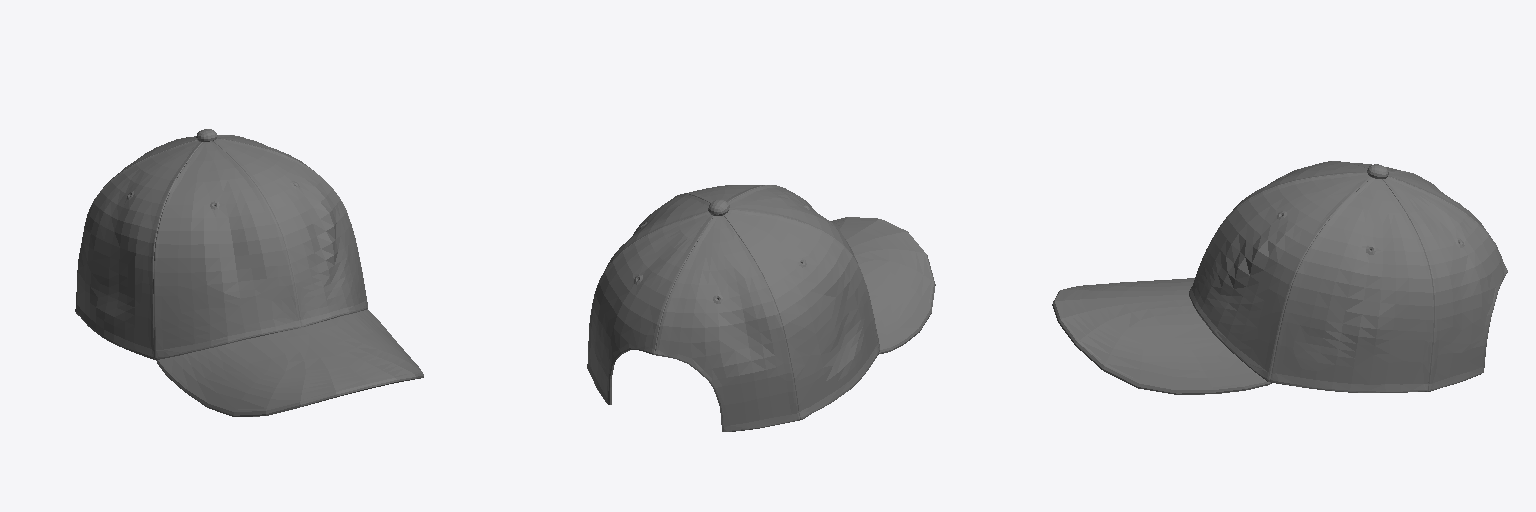
3 views of the same model, side by side, from view 1: azimuth 30°, elevation 25°; view 2: azimuth 150°, elevation 25°; view 3: azimuth 270°, elevation 25° (orthographic).
Visible parts, largest first — view 1: T_Shirt_male; view 2: T_Shirt_male; view 3: T_Shirt_male.
Boxes of the visible parts, box(x1,y1,x2,y2) form: T_Shirt_male: box(75, 129, 423, 416); T_Shirt_male: box(587, 185, 935, 431); T_Shirt_male: box(1052, 161, 1507, 394).
Size of the model in its own units: 0.2059 by 0.1514 by 0.3457.